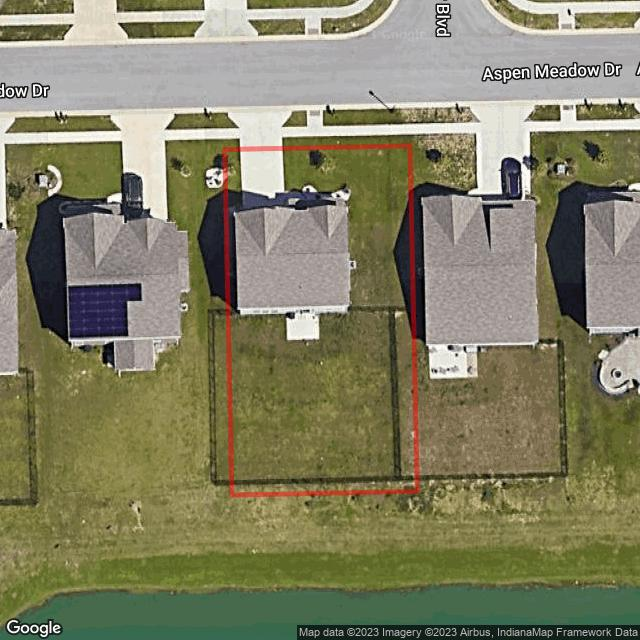Driveway: (241, 152, 286, 209)
Extra Driveway: (228, 111, 292, 146)
Extra Lawn: (323, 108, 412, 125), (282, 111, 307, 127), (222, 113, 239, 128)
Extra Sidewalk: (282, 110, 412, 137), (221, 128, 240, 139)
House: (235, 199, 350, 314)
Other: (286, 185, 351, 209), (286, 311, 319, 341)
